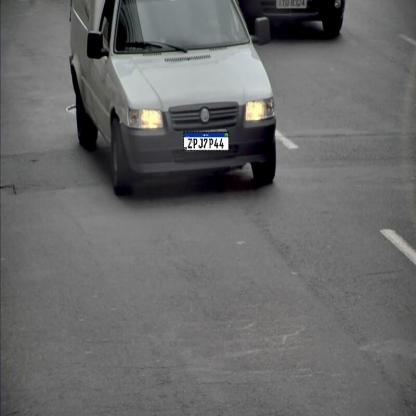PlacaM: (183, 132, 229, 151)
